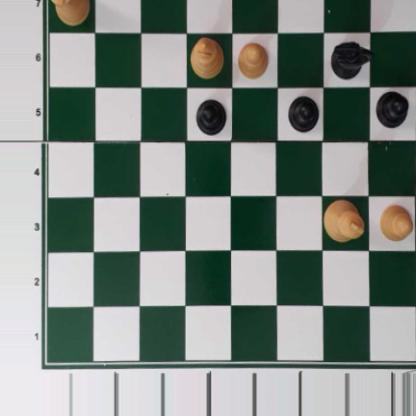black-knight: (329, 39, 374, 80)
black-pawn: (195, 99, 228, 137), (287, 92, 318, 132), (375, 89, 407, 127)
white-bishop: (189, 34, 223, 80)
white-king: (323, 197, 363, 241)
white-pawn: (378, 201, 413, 241), (236, 39, 269, 78)
white-rook: (47, 0, 89, 26)
